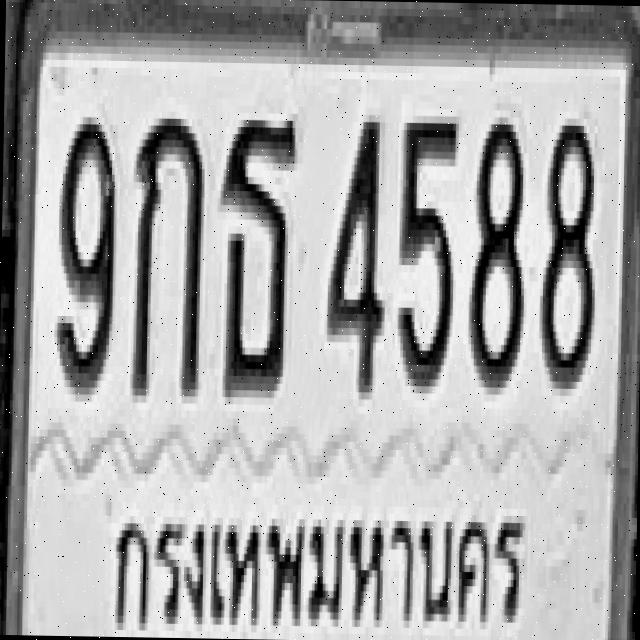10GorGai: (130, 110, 203, 397)
33ThorThong: (216, 112, 298, 398)
4: (326, 114, 384, 392)
5: (395, 112, 457, 390)
8: (468, 116, 524, 388), (540, 118, 596, 389)
9: (55, 116, 116, 394)
Bangkok: (91, 486, 544, 640)
